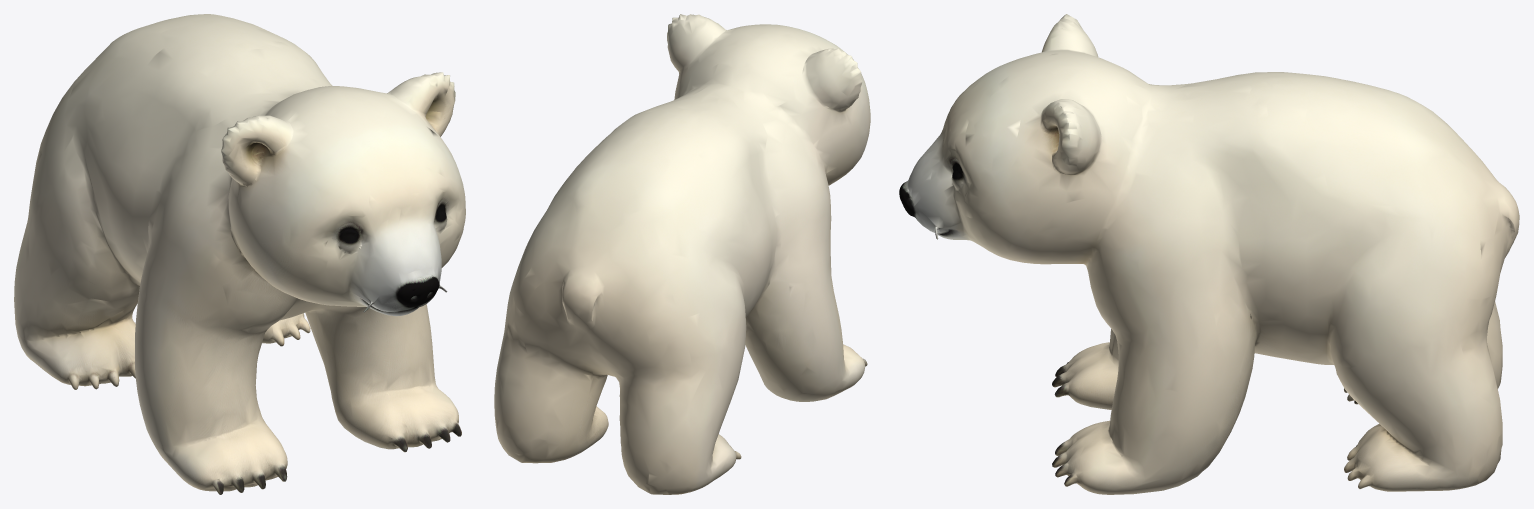
File: polar_bear_cub.glb
3 views of the same model, side by side, from view 1: azimuth 30°, elevation 25°; view 2: azimuth 150°, elevation 25°; view 3: azimuth 270°, elevation 25° (orthographic). The views are drawn at different scales.
Size of the model in its own units: 0.9738 by 1.26 by 1.9.
1 material, 1 textured.
